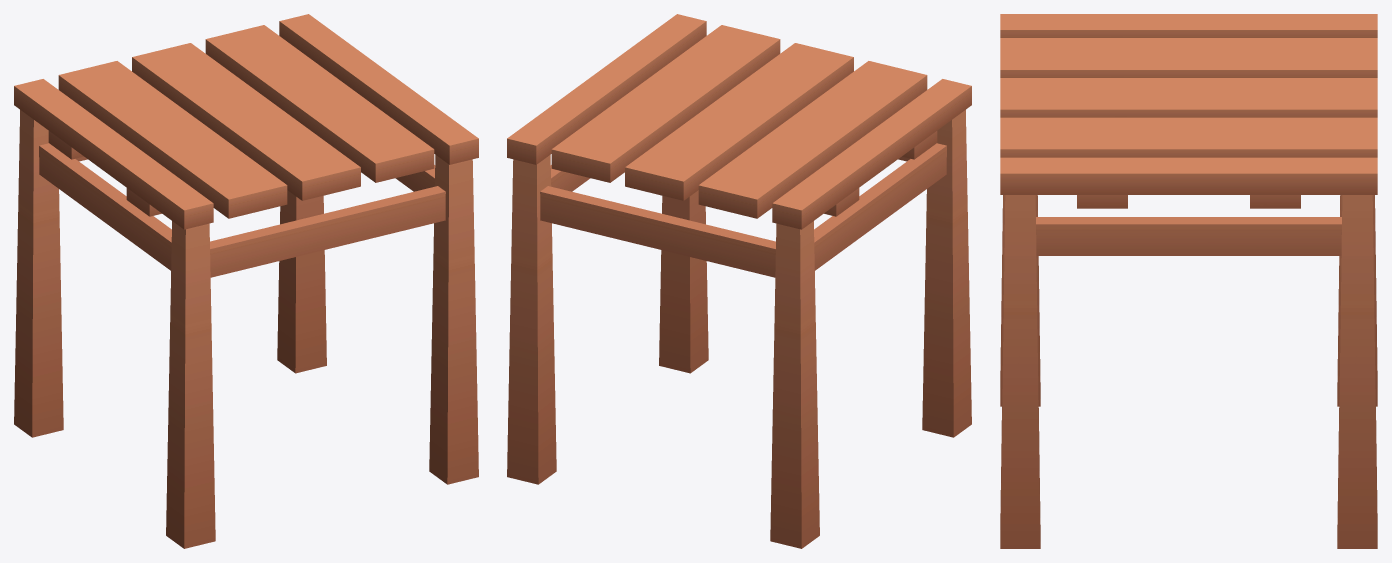
File: structure-floor.glb
The picture shows the model from 3 angles, left to right: view 1: azimuth 30°, elevation 25°; view 2: azimuth 150°, elevation 25°; view 3: azimuth 270°, elevation 25°; orthographic projection. The views are drawn at different scales.
Visible parts, largest first — view 1: structure-floor, Group; view 2: structure-floor, Group; view 3: Group, structure-floor.
Part boxes in pixels (x1,y1,x2,y2): structure-floor: [14, 110, 478, 548]; Group: [14, 14, 478, 229]; structure-floor: [507, 110, 971, 548]; Group: [507, 14, 971, 229]; Group: [1000, 14, 1377, 208]; structure-floor: [1000, 195, 1377, 548].
Bounding box in the file's own units: 0.5 × 0.5487 × 0.5.
1 material, 1 textured.
